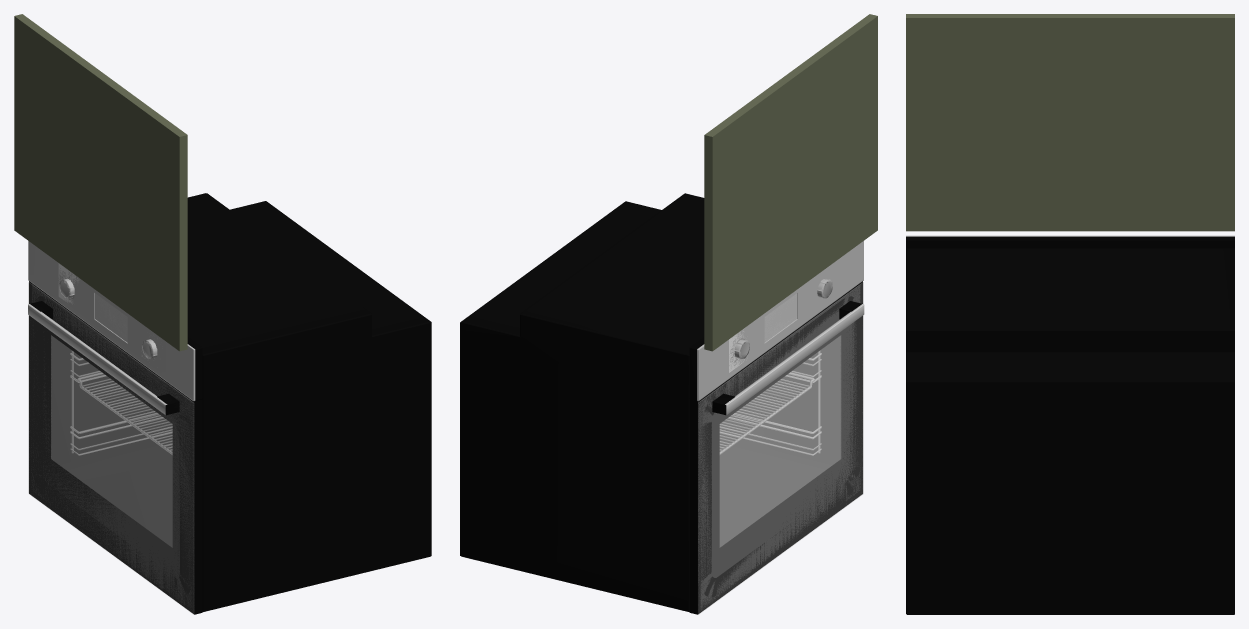
File: furniture_1.glb
The picture shows the model from 3 angles, left to right: view 1: azimuth 30°, elevation 25°; view 2: azimuth 150°, elevation 25°; view 3: azimuth 270°, elevation 25°; orthographic projection.
Visible parts, largest first — view 1: GF_kitchenOven02, GF_OvenSingle_Panel; view 2: GF_kitchenOven02, GF_OvenSingle_Panel; view 3: GF_kitchenOven02, GF_OvenSingle_Panel.
Boxes of the visible parts, box(x1,y1,x2,y2) form: GF_kitchenOven02: box(28, 193, 431, 614); GF_OvenSingle_Panel: box(14, 14, 187, 351); GF_kitchenOven02: box(460, 193, 864, 614); GF_OvenSingle_Panel: box(704, 14, 877, 351); GF_kitchenOven02: box(906, 235, 1234, 614); GF_OvenSingle_Panel: box(906, 14, 1234, 231).
Size of the model in its own units: 0.5996 by 1.09 by 0.6797.
Materials: 9 (2 with a texture image).
